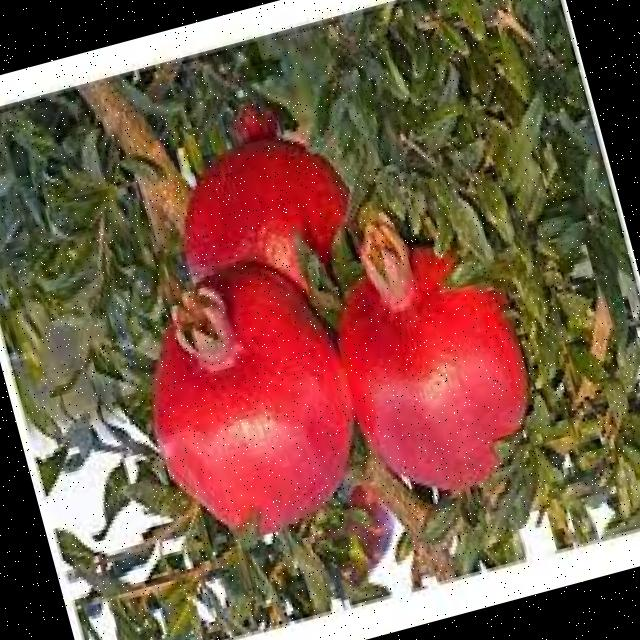Ripe: (114, 241, 383, 562), (317, 185, 561, 516)
